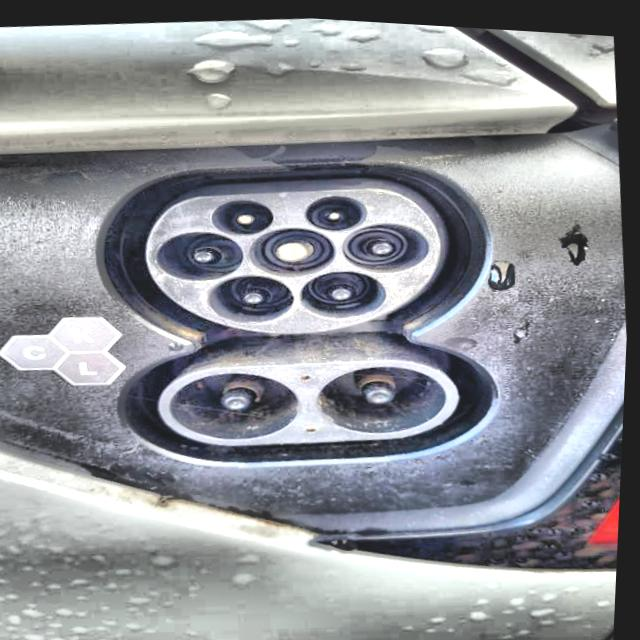inlet: (147, 183, 444, 329)
inlet-above-left: (212, 196, 275, 232)
inlet-above-right: (307, 191, 369, 227)
inlet-below-left: (212, 272, 296, 320)
inlet-below-right: (302, 267, 388, 315)
inlet-center: (250, 223, 338, 273)
inlet-center-left: (158, 229, 246, 278)
inlet-center-right: (343, 218, 430, 269)
